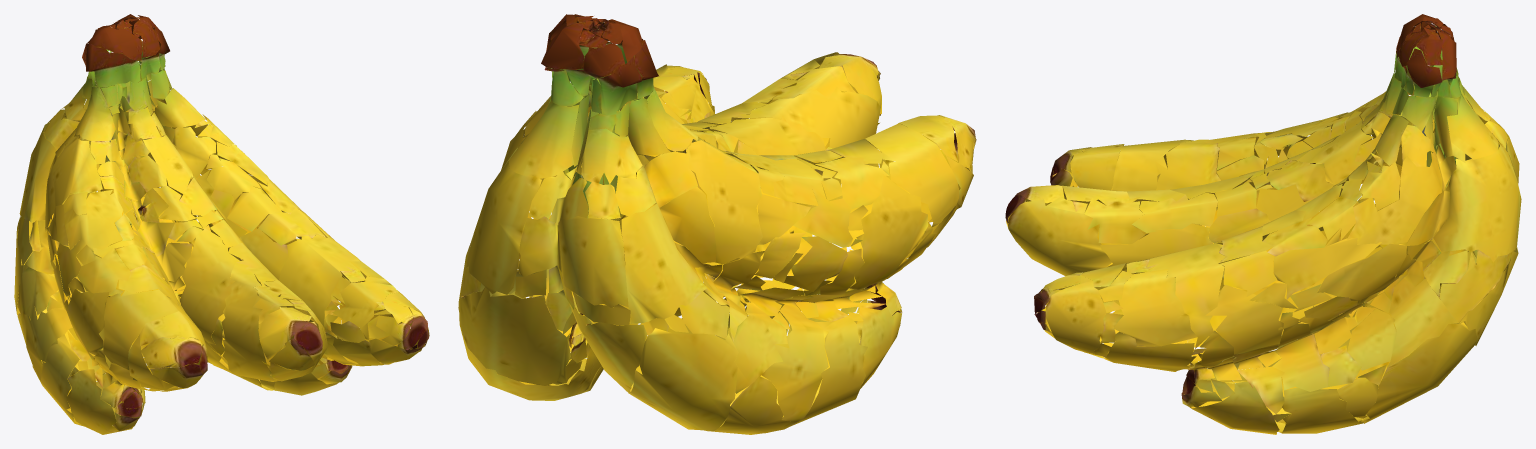
File: platano.glb
3 views of the same model, side by side, from view 1: azimuth 30°, elevation 25°; view 2: azimuth 150°, elevation 25°; view 3: azimuth 270°, elevation 25° (orthographic). The views are drawn at different scales.
Visible parts, largest first — view 1: Mesh_0; view 2: Mesh_0; view 3: Mesh_0.
Boxes of the visible parts, x1,y1,x2,y2 form: Mesh_0: (14,14,429,434); Mesh_0: (458,14,976,434); Mesh_0: (1005,14,1521,434).
Size of the model in its own units: 1.28 by 1.47 by 1.9.
Materials: 1 (1 with a texture image).
